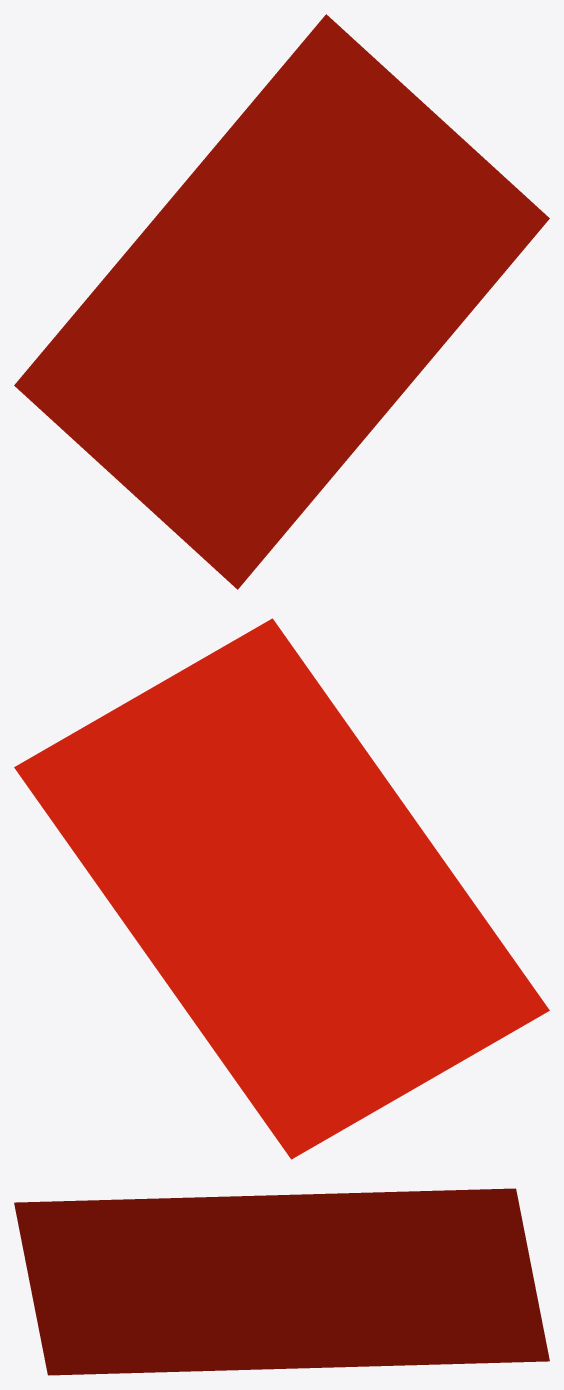
File: TiltedGround.dae
The picture shows the model from 3 angles, top to bottom: view 1: azimuth 30°, elevation 25°; view 2: azimuth 150°, elevation 25°; view 3: azimuth 270°, elevation 25°; orthographic projection. The views are drawn at different scales.
Parts seen in each view (by area): view 1: Plane; view 2: Plane; view 3: Plane.
Part boxes in pixels (bbox=[...]): Plane: bbox=[14, 14, 549, 589]; Plane: bbox=[14, 618, 549, 1159]; Plane: bbox=[14, 1188, 549, 1375].
Bounding box in the file's own units: 299 × 426 × 303.
